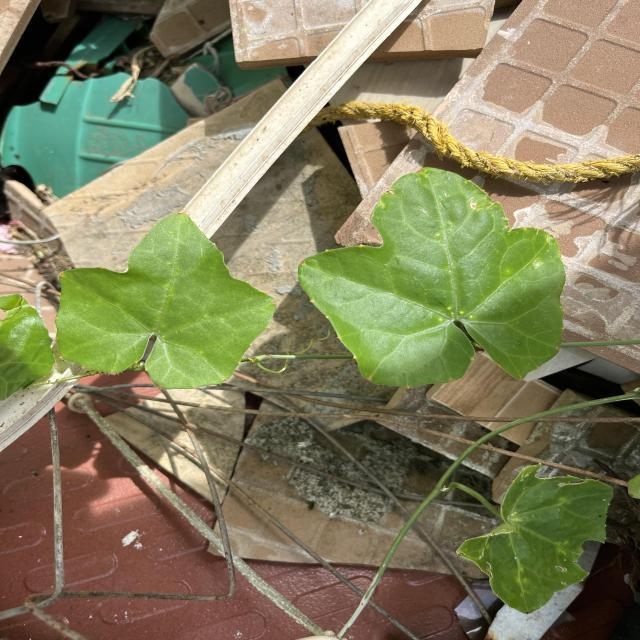Coccinia grandis: (296, 166, 568, 390), (52, 210, 278, 392)
